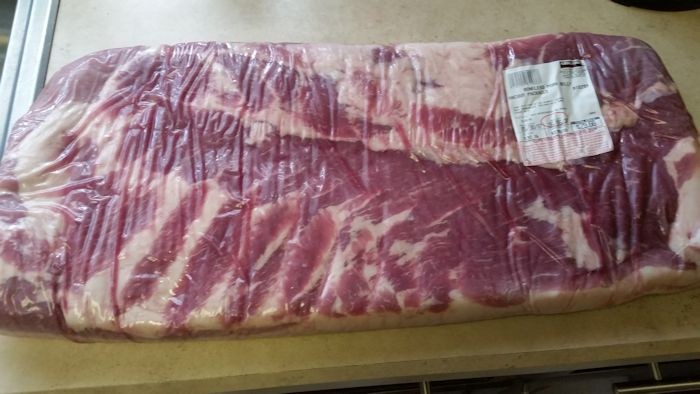bacon: (49, 51, 587, 285)
